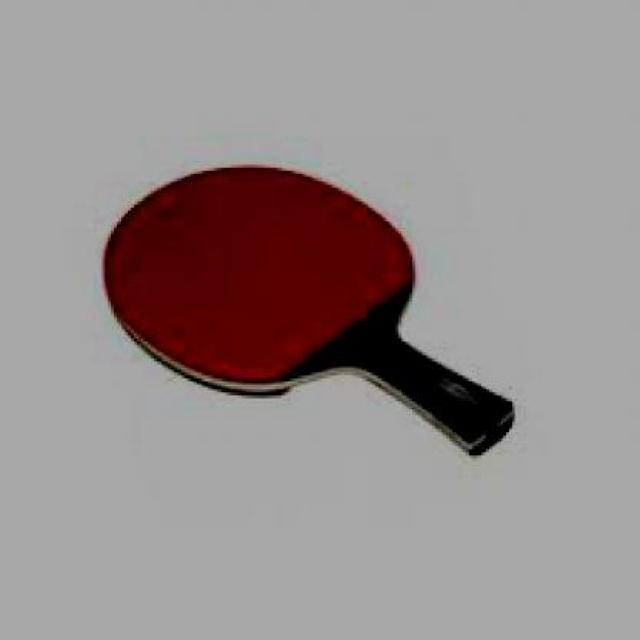table_tennis_racket: (102, 166, 515, 460)
